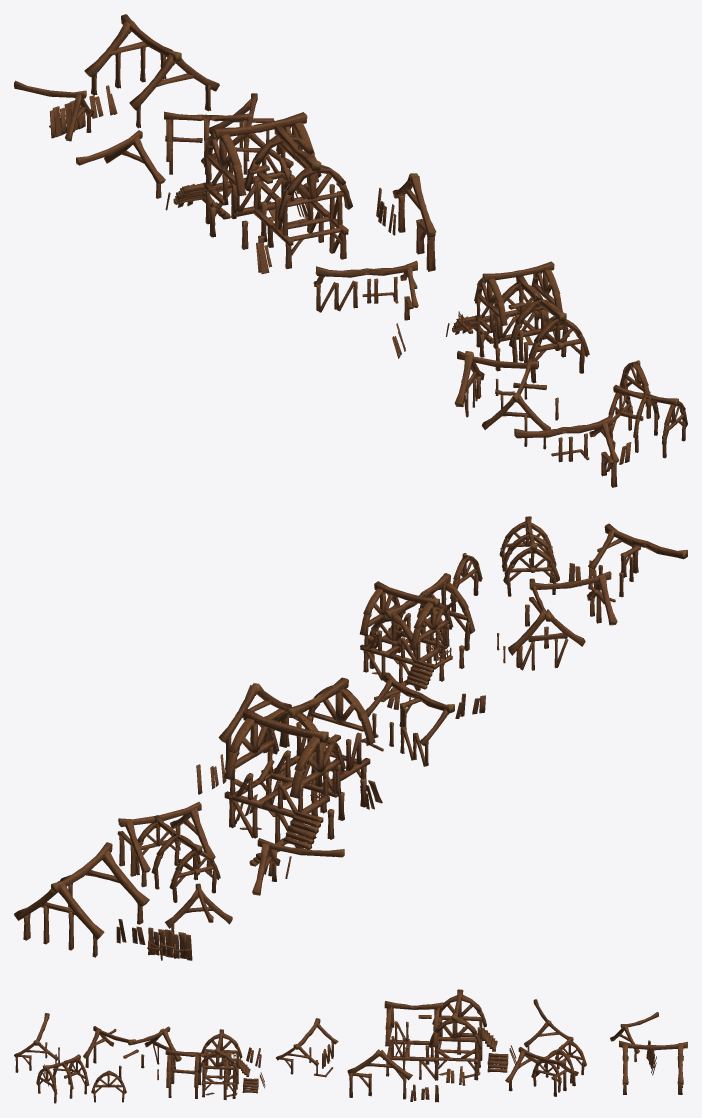
File: WoodBlock5.FBX
3 views of the same model, one above another, from view 1: azimuth 30°, elevation 25°; view 2: azimuth 150°, elevation 25°; view 3: azimuth 270°, elevation 25° (orthographic). The views are drawn at different scales.
Parts seen in each view (by area): view 1: Object4555; view 2: Object4555; view 3: Object4555.
Boxes of the visible parts, x1,y1,x2,y2 form: Object4555: (14, 14, 687, 487); Object4555: (14, 516, 687, 960); Object4555: (14, 989, 687, 1103).
Size of the model in its own units: 2428 by 1219 by 9912.
